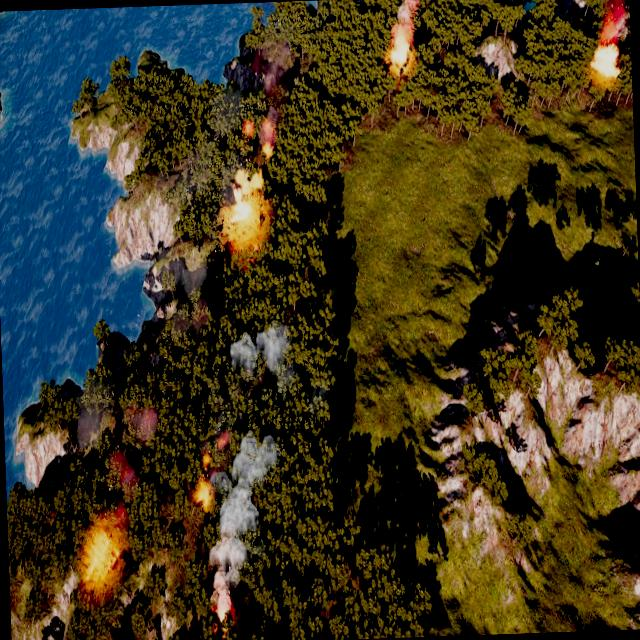fire: (220, 168, 264, 248), (82, 527, 122, 589), (241, 115, 275, 159), (386, 23, 416, 67), (592, 44, 620, 79), (192, 478, 211, 512), (214, 596, 236, 624)
smoke: (204, 428, 283, 590), (228, 328, 302, 388), (599, 0, 630, 43), (396, 0, 419, 20)
